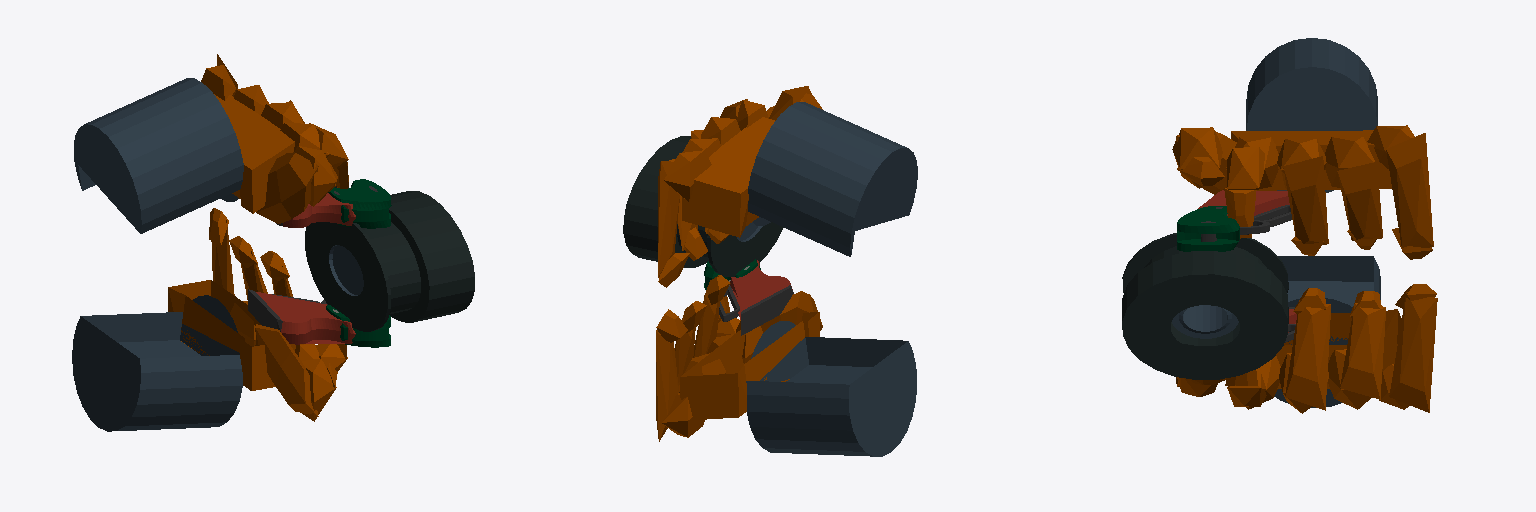
3 views of the same model, side by side, from view 1: azimuth 30°, elevation 25°; view 2: azimuth 150°, elevation 25°; view 3: azimuth 270°, elevation 25° (orthographic).
Parts seen in each view (by area): view 1: Mesh40 Component1_1_2 Group3 Group1 Model, Mesh20 Component1_1_1 Group2 Group1 Model, Mesh41 Component12_1 Component11_1 Component10_1 Component8_1 Co, Mesh42 Component12_1 Component11_1 Component10_1 Component8_1 Co, Mesh22 Component25_2 Component23_2 Component22_2 Component21_2 G, Mesh5 Component1_1_1 Group2 Group1 Model, Mesh25 Component1_1_2 Group3 Group1 Model, Mesh1 Component24_1 Component23_1 Component22_1 Component21_1 Gr, Mesh2 Component25_1 Component23_1 Component22_1 Component21_1 Gr, Mesh19 Component1_1_1 Group2 Group1 Model, Mesh39 Component1_1_2 Group3 Group1 Model, Mesh21 Component24_2 Component23_2 Component22_2 Component21_2 G (+9 smaller); view 2: Mesh40 Component1_1_2 Group3 Group1 Model, Mesh20 Component1_1_1 Group2 Group1 Model, Mesh41 Component12_1 Component11_1 Component10_1 Component8_1 Co, Mesh22 Component25_2 Component23_2 Component22_2 Component21_2 G, Mesh42 Component12_1 Component11_1 Component10_1 Component8_1 Co, Mesh16 Component1_1_1 Group2 Group1 Model, Mesh36 Component1_1_2 Group3 Group1 Model, Mesh11 Component1_1_1 Group2 Group1 Model, Mesh31 Component1_1_2 Group3 Group1 Model, Mesh32 Component1_1_2 Group3 Group1 Model, Mesh25 Component1_1_2 Group3 Group1 Model, Mesh9 Component1_1_1 Group2 Group1 Model (+5 smaller); view 3: Mesh41 Component12_1 Component11_1 Component10_1 Component8_1 Co, Mesh20 Component1_1_1 Group2 Group1 Model, Mesh40 Component1_1_2 Group3 Group1 Model, Mesh36 Component1_1_2 Group3 Group1 Model, Mesh16 Component1_1_1 Group2 Group1 Model, Mesh32 Component1_1_2 Group3 Group1 Model, Mesh42 Component12_1 Component11_1 Component10_1 Component8_1 Co, Mesh35 Component1_1_2 Group3 Group1 Model, Mesh12 Component1_1_1 Group2 Group1 Model, Mesh15 Component1_1_1 Group2 Group1 Model, Mesh1 Component24_1 Component23_1 Component22_1 Component21_1 Gr, Mesh19 Component1_1_1 Group2 Group1 Model (+13 smaller).
Part boxes in pixels (left/top/right/bottom): Mesh40 Component1_1_2 Group3 Group1 Model: left=72, top=280, right=295, bottom=431; Mesh20 Component1_1_1 Group2 Group1 Model: left=74, top=78, right=294, bottom=233; Mesh41 Component12_1 Component11_1 Component10_1 Component8_1 Co: left=362, top=191, right=474, bottom=322; Mesh42 Component12_1 Component11_1 Component10_1 Component8_1 Co: left=305, top=222, right=390, bottom=331; Mesh22 Component25_2 Component23_2 Component22_2 Component21_2 G: left=248, top=289, right=355, bottom=344; Mesh5 Component1_1_1 Group2 Group1 Model: left=256, top=152, right=318, bottom=223; Mesh25 Component1_1_2 Group3 Group1 Model: left=255, top=324, right=318, bottom=416; Mesh1 Component24_1 Component23_1 Component22_1 Component21_1 Gr: left=328, top=179, right=391, bottom=228; Mesh2 Component25_1 Component23_1 Component22_1 Component21_1 Gr: left=276, top=193, right=355, bottom=227; Mesh19 Component1_1_1 Group2 Group1 Model: left=295, top=146, right=336, bottom=206; Mesh39 Component1_1_2 Group3 Group1 Model: left=302, top=359, right=336, bottom=421; Mesh21 Component24_2 Component23_2 Component22_2 Component21_2 G: left=326, top=305, right=390, bottom=347; Mesh40 Component1_1_2 Group3 Group1 Model: left=680, top=312, right=916, bottom=456; Mesh20 Component1_1_1 Group2 Group1 Model: left=682, top=102, right=917, bottom=256; Mesh41 Component12_1 Component11_1 Component10_1 Component8_1 Co: left=623, top=136, right=708, bottom=267; Mesh22 Component25_2 Component23_2 Component22_2 Component21_2 G: left=730, top=260, right=793, bottom=335; Mesh42 Component12_1 Component11_1 Component10_1 Component8_1 Co: left=707, top=222, right=783, bottom=276; Mesh16 Component1_1_1 Group2 Group1 Model: left=658, top=161, right=679, bottom=277; Mesh36 Component1_1_2 Group3 Group1 Model: left=656, top=330, right=678, bottom=441; Mesh11 Component1_1_1 Group2 Group1 Model: left=664, top=150, right=711, bottom=201; Mesh31 Component1_1_2 Group3 Group1 Model: left=662, top=393, right=704, bottom=437; Mesh32 Component1_1_2 Group3 Group1 Model: left=693, top=293, right=719, bottom=357; Mesh25 Component1_1_2 Group3 Group1 Model: left=779, top=291, right=822, bottom=330; Mesh9 Component1_1_1 Group2 Group1 Model: left=701, top=117, right=740, bottom=145; Mesh41 Component12_1 Component11_1 Component10_1 Component8_1 Co: left=1122, top=246, right=1288, bottom=379; Mesh20 Component1_1_1 Group2 Group1 Model: left=1231, top=38, right=1391, bottom=192; Mesh40 Component1_1_2 Group3 Group1 Model: left=1274, top=256, right=1401, bottom=407; Mesh36 Component1_1_2 Group3 Group1 Model: left=1389, top=292, right=1437, bottom=412; Mesh16 Component1_1_1 Group2 Group1 Model: left=1386, top=133, right=1433, bottom=251; Mesh32 Component1_1_2 Group3 Group1 Model: left=1285, top=300, right=1330, bottom=410; Mesh42 Component12_1 Component11_1 Component10_1 Component8_1 Co: left=1122, top=233, right=1288, bottom=338; Mesh35 Component1_1_2 Group3 Group1 Model: left=1340, top=303, right=1385, bottom=399; Mesh12 Component1_1_1 Group2 Group1 Model: left=1283, top=156, right=1328, bottom=244; Mesh15 Component1_1_1 Group2 Group1 Model: left=1337, top=162, right=1382, bottom=240; Mesh1 Component24_1 Component23_1 Component22_1 Component21_1 Gr: left=1177, top=206, right=1239, bottom=251; Mesh19 Component1_1_1 Group2 Group1 Model: left=1172, top=127, right=1222, bottom=188.
Bounding box in the file's own units: 5.09 × 5.91 × 4.95.
8 materials, 4 textured.